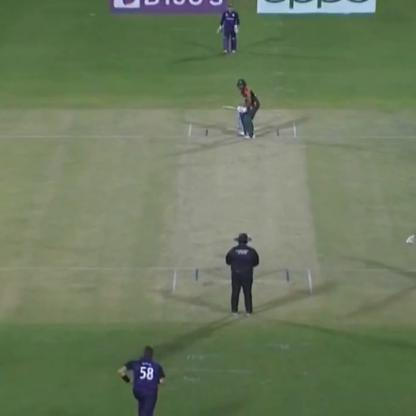bat: (215, 103, 241, 111)
pitch: (173, 121, 312, 302)
